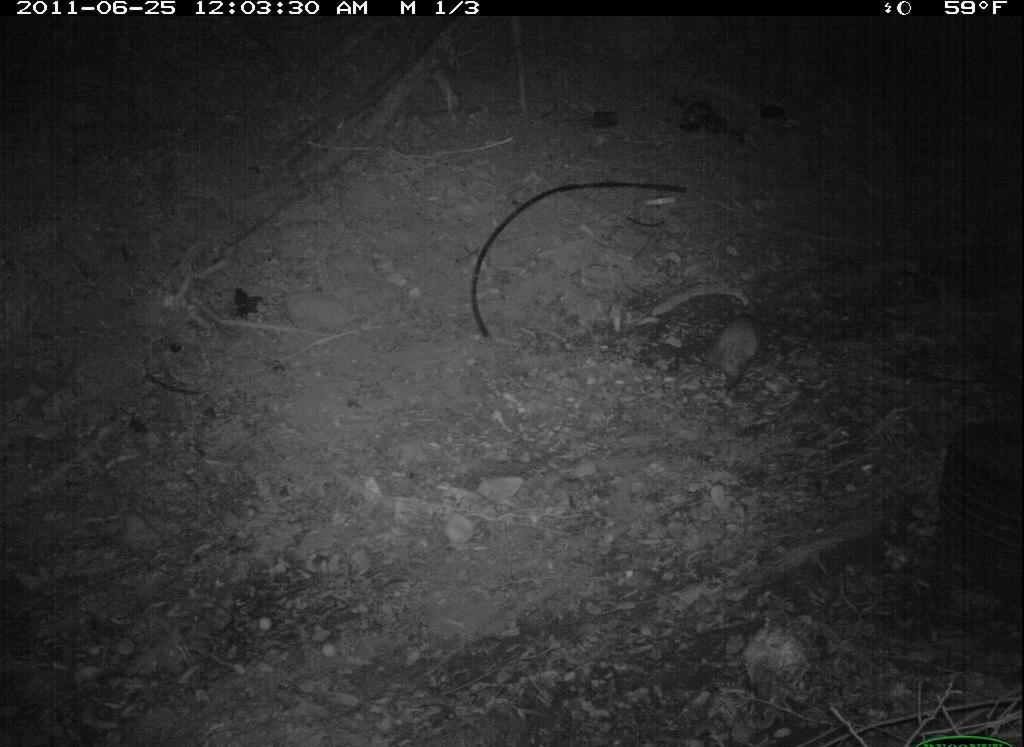opossum: (674, 301, 784, 404)
